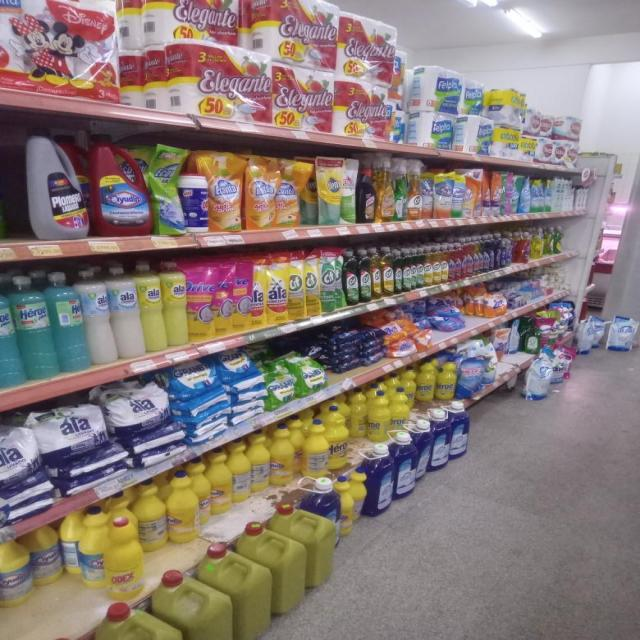ala_conc_rojo: (449, 244, 459, 282), (462, 241, 472, 278)
ala_crem_amarillo: (140, 262, 163, 355), (164, 261, 187, 348)
ala_crem_blanco: (84, 267, 112, 367), (112, 264, 141, 360)
ala_sachet_amarillo: (267, 252, 287, 324), (251, 254, 266, 329)
cif_conc_bot_amarilla: (382, 246, 393, 297), (371, 247, 381, 300), (425, 246, 433, 287), (434, 245, 442, 285), (441, 245, 448, 284)
cif_conc_botella_verde: (344, 249, 358, 306), (358, 248, 371, 302), (394, 247, 403, 294), (403, 247, 412, 292), (413, 247, 421, 290)
cif_conc_sachet_amarillo: (288, 250, 304, 320), (304, 250, 320, 317)
cif_conc_sachet_verde: (321, 247, 338, 313)
drive: (233, 256, 250, 333)
heroe: (17, 273, 52, 382), (0, 275, 17, 392)
